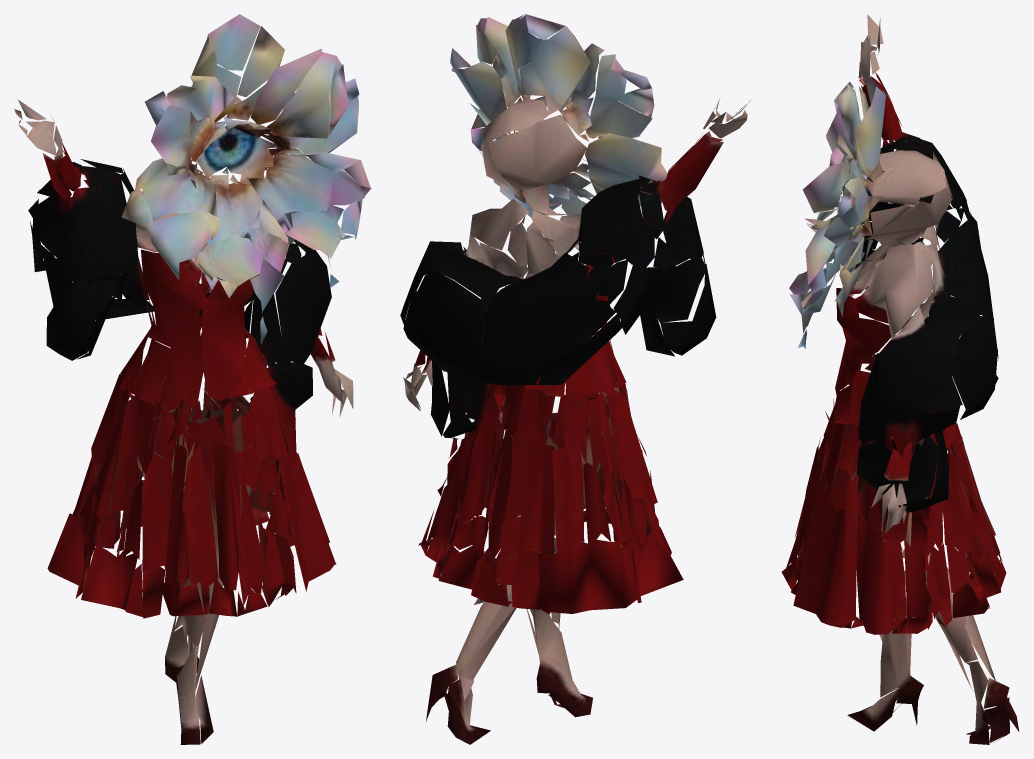
The model's file is crowd_loretta.glb.
3 views of the same model, side by side, from view 1: azimuth 30°, elevation 25°; view 2: azimuth 150°, elevation 25°; view 3: azimuth 270°, elevation 25° (orthographic). The views are drawn at different scales.
Visible parts, largest first — view 1: tripo_node_185166c0-c877-42b5-ac3a-c83c0cdb6d57; view 2: tripo_node_185166c0-c877-42b5-ac3a-c83c0cdb6d57; view 3: tripo_node_185166c0-c877-42b5-ac3a-c83c0cdb6d57.
Part boxes in pixels (left/top/right/bottom): tripo_node_185166c0-c877-42b5-ac3a-c83c0cdb6d57: left=14, top=14, right=371, bottom=744; tripo_node_185166c0-c877-42b5-ac3a-c83c0cdb6d57: left=400, top=14, right=751, bottom=744; tripo_node_185166c0-c877-42b5-ac3a-c83c0cdb6d57: left=781, top=14, right=1019, bottom=744.
Size of the model in its own units: 0.9579 by 1.86 by 0.6065.
1 material, 1 textured.
